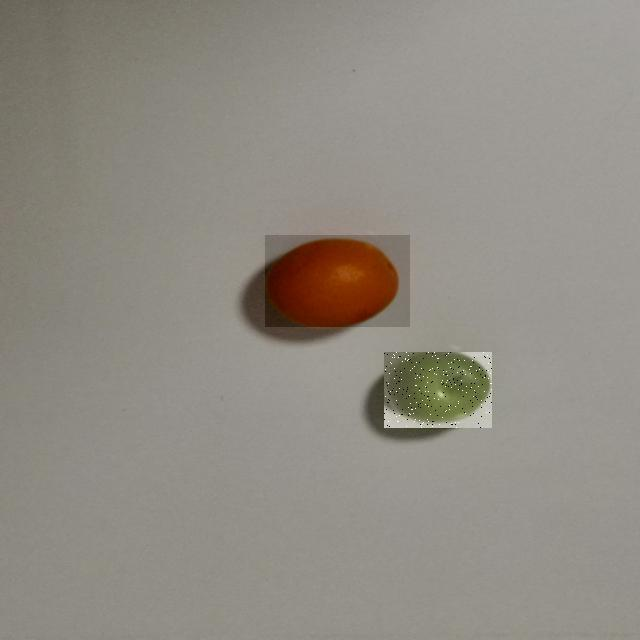apple: (138, 214, 630, 640)
orange: (60, 164, 470, 491)
